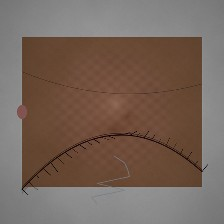foreign_body_visible: (99, 74, 121, 92)
